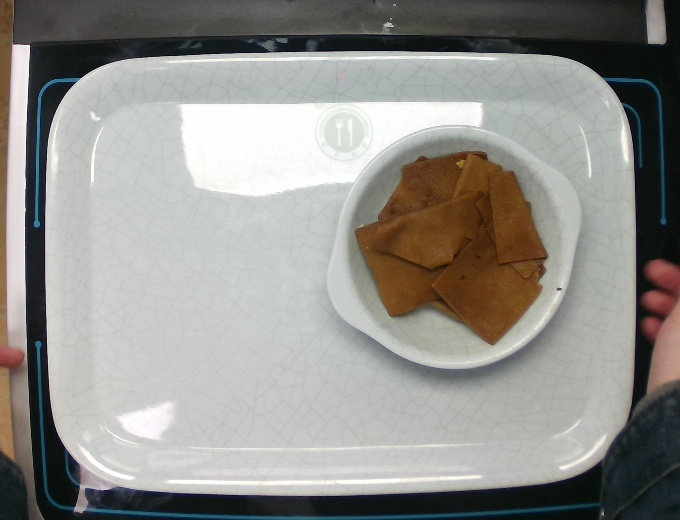JYsf-Shuang_Er_Wan: (325, 121, 581, 371)
